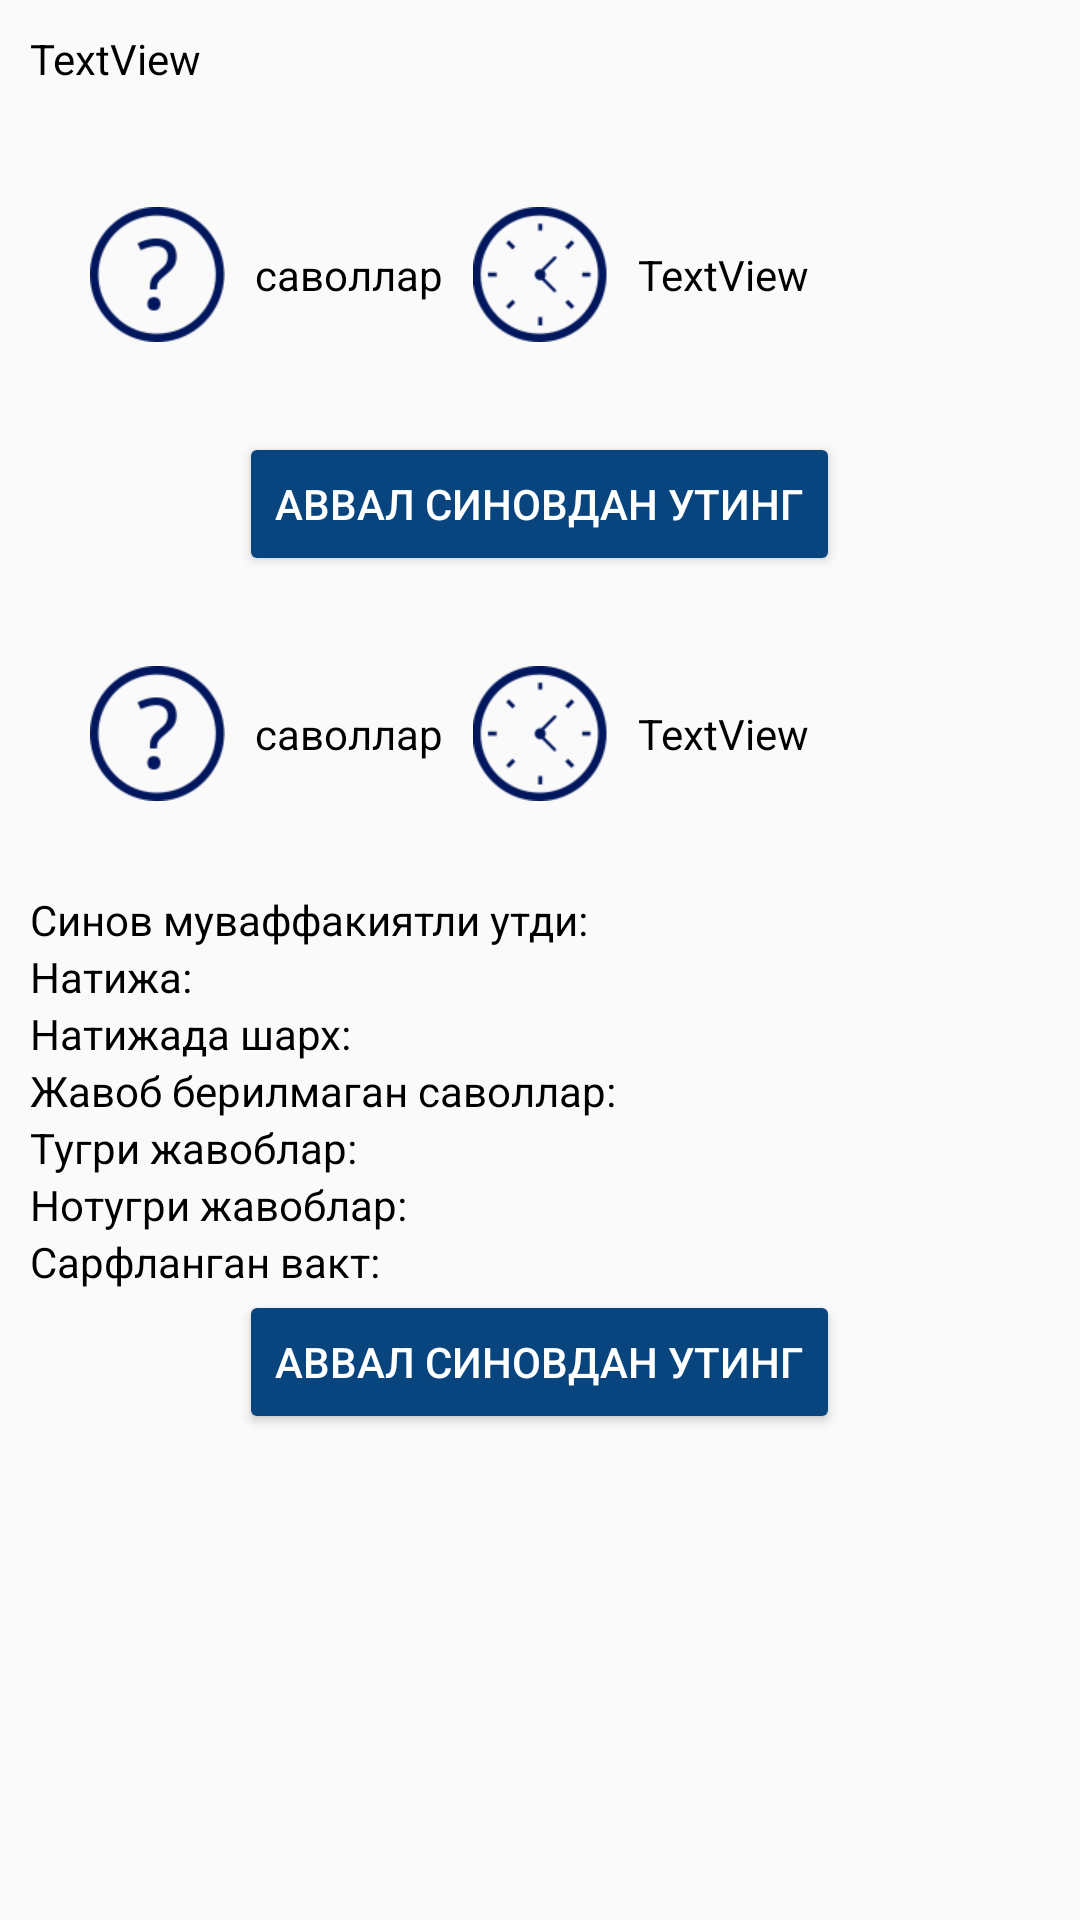

Icons on this 1080x1920 Android screen, each with the point to tap as point (x, y):
question pic: point (157, 274), point (157, 733)
time pic: point (540, 274), point (540, 733)
